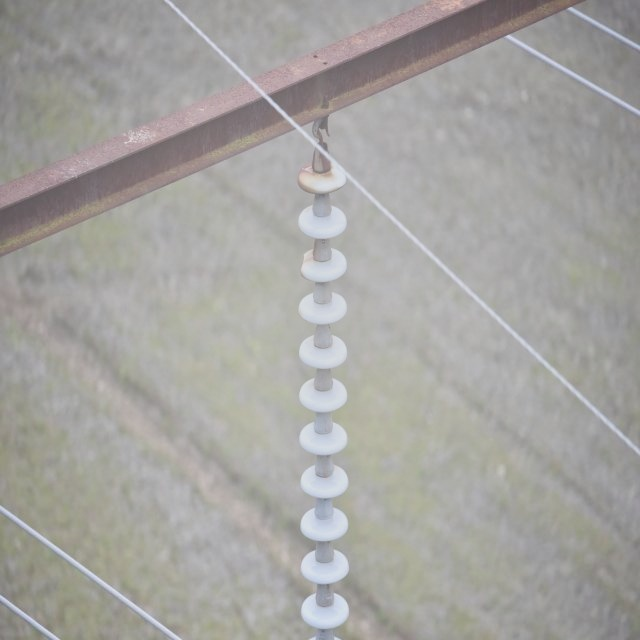broken: (298, 247, 308, 275)
insulator: (298, 161, 350, 630)
